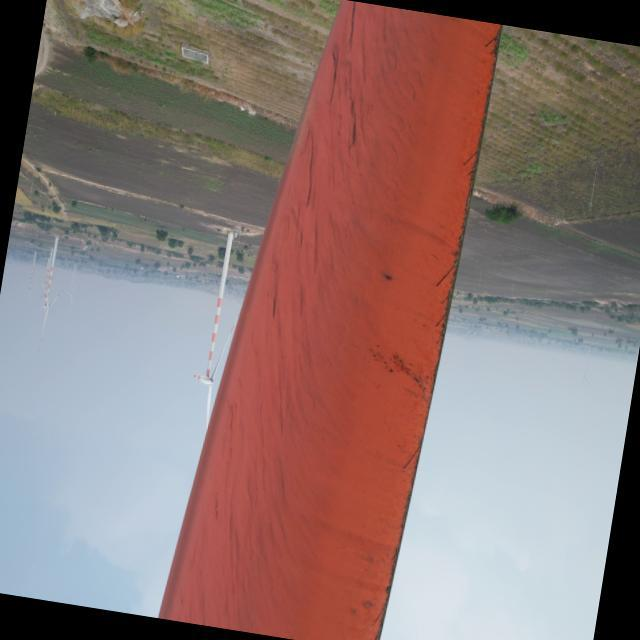Dirt: (185, 5, 502, 640)
